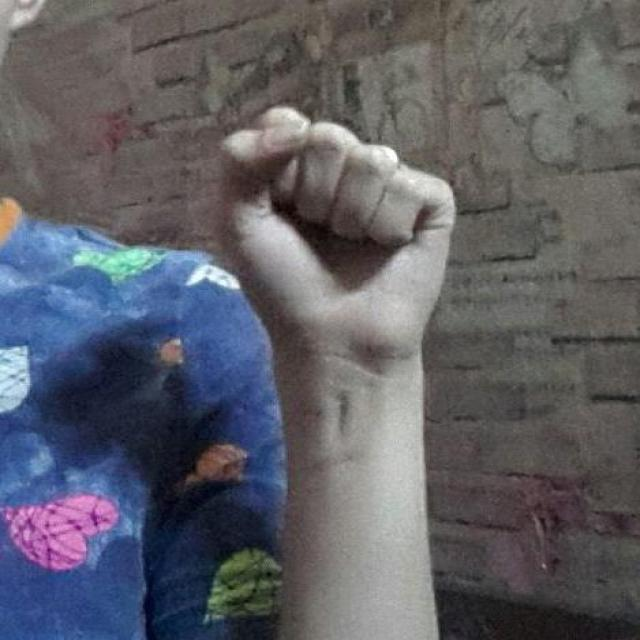hand: (213, 104, 457, 371)
